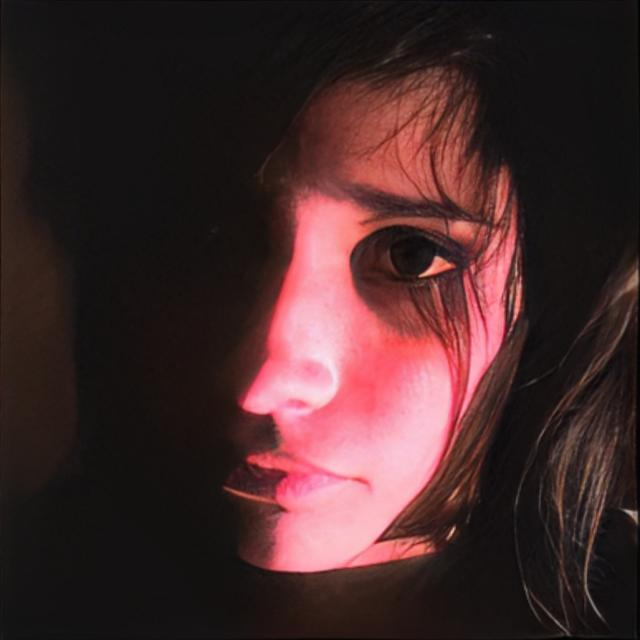sad: (112, 54, 534, 576)
